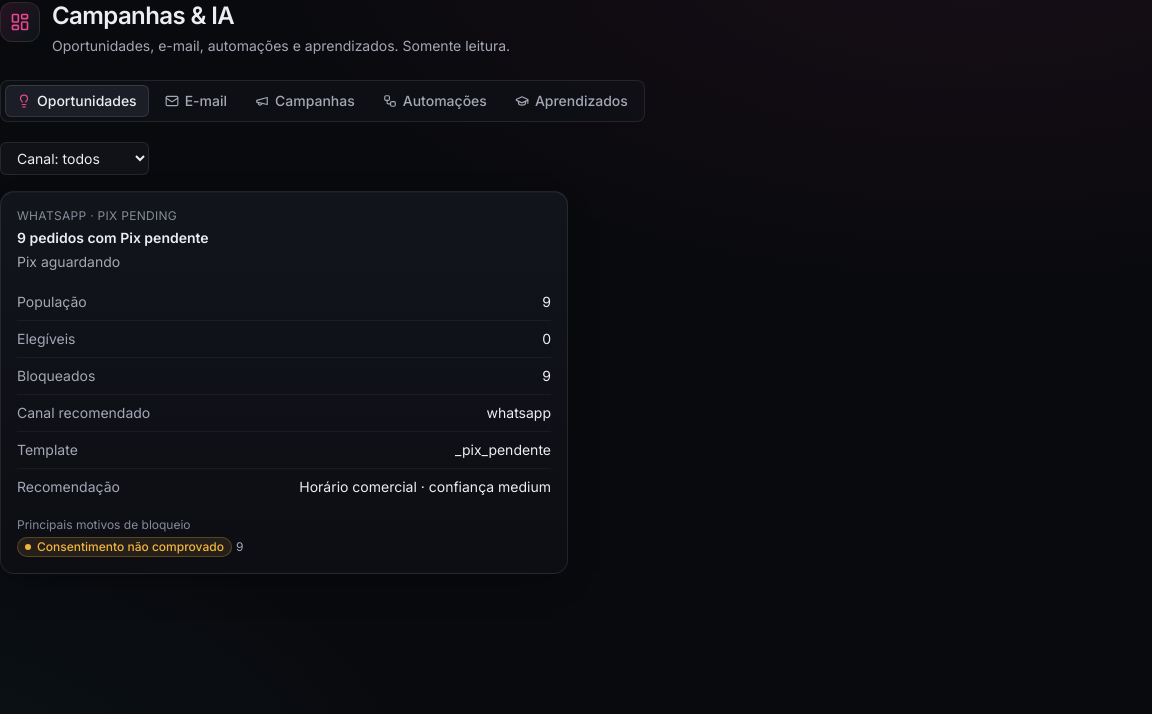
Scenario: CampaignsPage › e-mail mostra só métricas reais, gate bloqueado e gap de abertura/clique
Click the tab "E-mail". click: (196, 101)
box: [153,85,239,117]
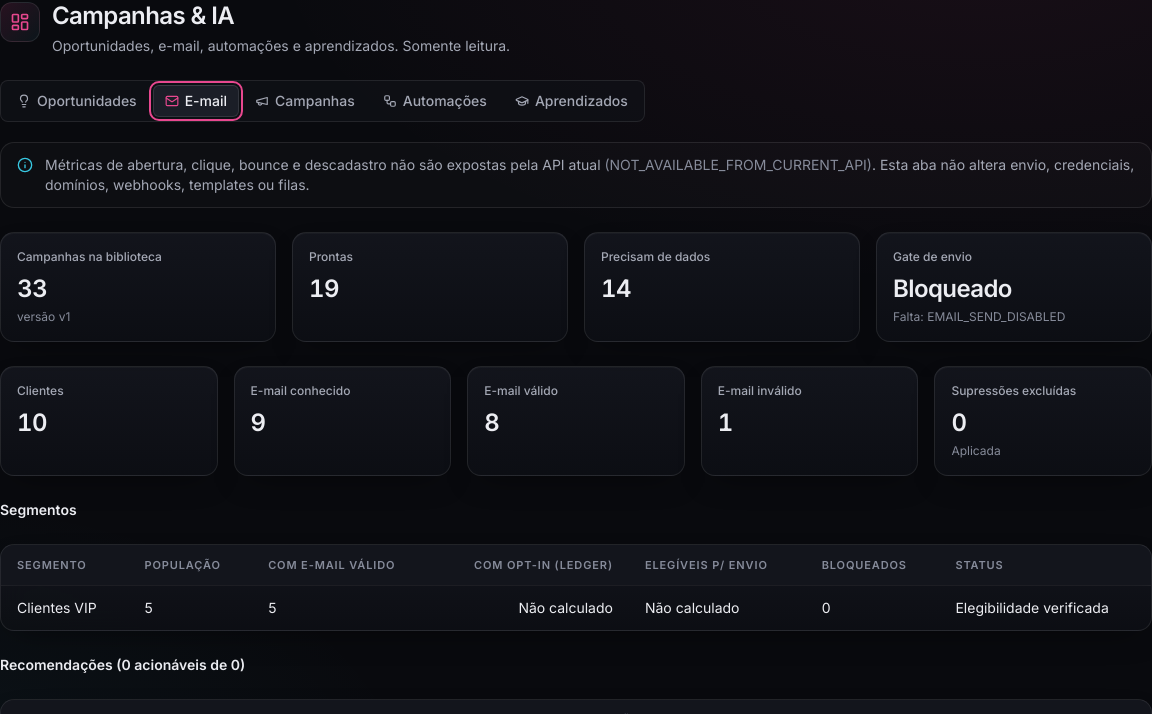
Result: the text "Bloqueado" is shown at [893,274,1012,303]
Result: the text "Falta: EMAIL_SEND_DISABLED" is shown at [893,309,1065,324]
Result: the text "abertura, clique, bounce e descadastro não são expostas" is shown at [45,156,604,173]
